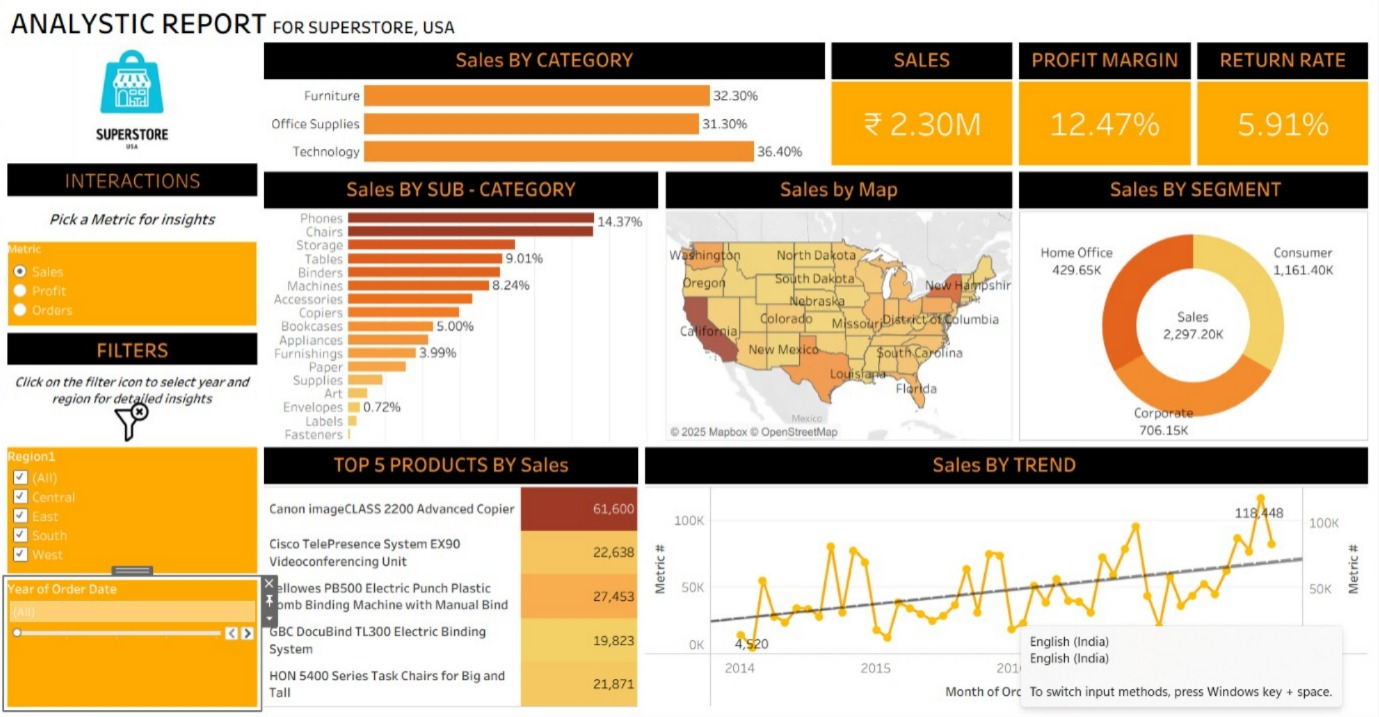

Layout of this report page (visuals, bound fields, positions):
{"tool":"tableau","page":{"name":"Dashboard 2","canvas":[1000,1000],"units":"permille","ordinal":0},"visuals":[{"type":"text","box":[4.8,9.3,990.3,47.6]},{"type":"image","param":"Image/Super store image.jpg","box":[4.8,56.9,186,168]},{"type":"worksheet","title":"Sales By Category","mark":"Automatic","rows":["Category"],"cols":["Calculation_2192408623746830337"],"box":[190.8,56.9,410.9,179.9]},{"type":"worksheet","title":"Sales","mark":"Automatic","box":[601.7,56.9,135.8,179.9]},{"type":"worksheet","title":"KPI cards","mark":"Automatic","box":[737.5,56.9,129.1,179.9]},{"type":"worksheet","title":"KPI Cards RR","mark":"Automatic","box":[866.6,56.9,128.6,179.9]},{"type":"worksheet","title":"INTERACTIONS","mark":"Automatic","box":[4.8,224.9,186,55.3]},{"type":"worksheet","title":"Sales by Sub - Category","mark":"Automatic","rows":["Sub-Category"],"cols":["Calculation_2192408623746830337"],"box":[190.8,236.8,290.5,383.4]},{"type":"worksheet","title":"Sales by Map","mark":"Automatic","box":[481.3,236.8,256.1,383.4]},{"type":"worksheet","title":"Donut Chart","mark":"Pie","rows":["Calculation_2192408623752519682","Calculation_2192408623752519682"],"box":[737.5,236.8,257.7,383.4]},{"type":"text","box":[4.8,280.2,186,53.2]},{"type":"parameter","param":"[Parameters].[Parameter 2]","box":[4.8,333.4,186,127.7]},{"type":"worksheet","title":"FILTERS","mark":"Automatic","box":[4.8,461.1,186,53.4]},{"type":"text","box":[4.8,514.5,186,61.9]},{"type":"dashboard-object","box":[6.6,562.4,180,54.3]},{"type":"filter","title":"FILTERS","param":"[federated.1idirxe03go9he1fmxvap0audpc3].[none:Region:nk]","box":[4.8,619.7,186,184.7]},{"type":"worksheet","title":"TOP 5 product by sales","mark":"Square","rows":["Product Name"],"box":[190.8,620.2,275.8,370.5]},{"type":"worksheet","title":"Sales by Trend ","mark":"Automatic","rows":["Calculation_2192408623746830337","Calculation_2192408623746830337"],"cols":["Order Date"],"box":[466.6,620.2,528.5,370.5]},{"type":"filter","title":"FILTERS","param":"[federated.1idirxe03go9he1fmxvap0audpc3].[yr:Order Date:ok]","box":[4.8,804.4,186,186.3]}]}

Visuals, with their boxes on the dashboard's canvas, which has no fixed pixel size, in thousandths of its width and height (x1, y1, x2, y2). These are canvas units, not pixel positions in the 1379x717 screenshot, which may show the page scaled, cropped or inside an application window:
text: (5,9,995,57)
image: (5,57,191,225)
"Sales By Category" worksheet: (191,57,602,237)
"Sales" worksheet: (602,57,738,237)
"KPI cards" worksheet: (738,57,867,237)
"KPI Cards RR" worksheet: (867,57,995,237)
"INTERACTIONS" worksheet: (5,225,191,280)
"Sales by Sub - Category" worksheet: (191,237,481,620)
"Sales by Map" worksheet: (481,237,737,620)
"Donut Chart" worksheet (Pie marks): (738,237,995,620)
text: (5,280,191,333)
parameter: (5,333,191,461)
"FILTERS" worksheet: (5,461,191,514)
text: (5,514,191,576)
dashboard-object: (7,562,187,617)
"FILTERS" filter: (5,620,191,804)
"TOP 5 product by sales" worksheet (Square marks): (191,620,467,991)
"Sales by Trend " worksheet: (467,620,995,991)
"FILTERS" filter: (5,804,191,991)
